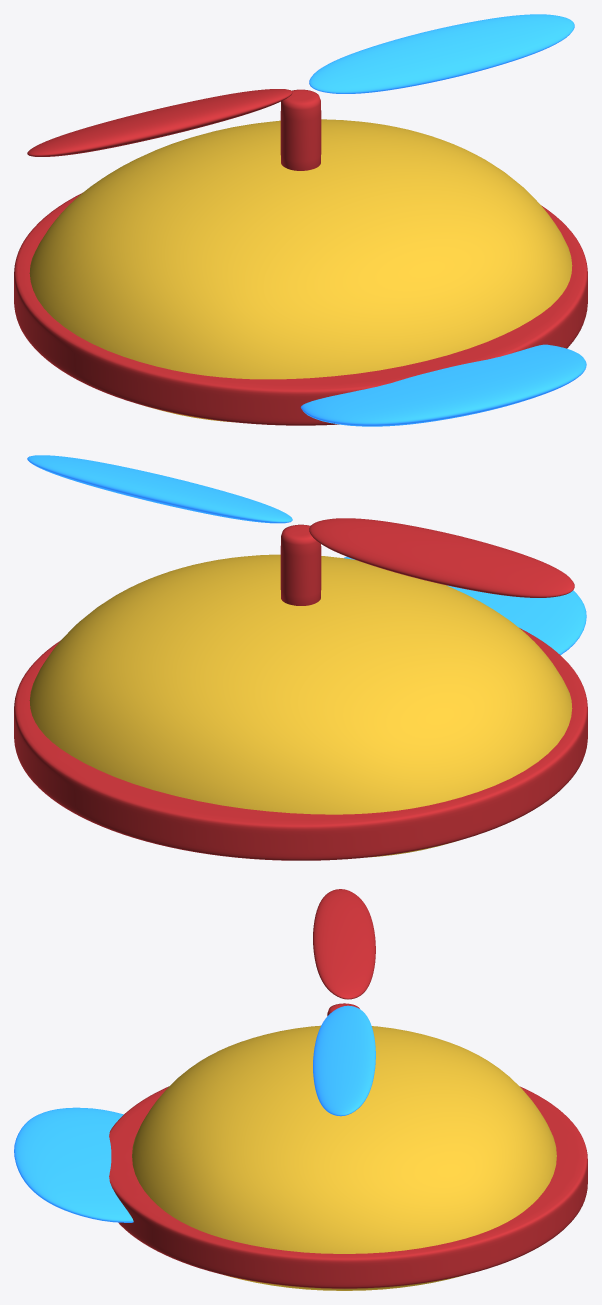
File: propeller_cap.glb
3 views of the same model, one above another, from view 1: azimuth 30°, elevation 25°; view 2: azimuth 150°, elevation 25°; view 3: azimuth 270°, elevation 25° (orthographic). The views are drawn at different scales.
Parts seen in each view (by area): view 1: ACC_propeller_cap_dome, ACC_propeller_cap_band, ACC_propeller_cap_brim, ACC_propeller_cap_blade1, ACC_propeller_cap_blade-1, ACC_propeller_cap_stem; view 2: ACC_propeller_cap_dome, ACC_propeller_cap_band, ACC_propeller_cap_blade-1, ACC_propeller_cap_blade1, ACC_propeller_cap_brim, ACC_propeller_cap_stem; view 3: ACC_propeller_cap_dome, ACC_propeller_cap_band, ACC_propeller_cap_brim, ACC_propeller_cap_blade-1, ACC_propeller_cap_blade1.
Boxes of the visible parts, x1=… form: ACC_propeller_cap_dome: x1=29, y1=119, x2=572, y2=422; ACC_propeller_cap_band: x1=14, y1=193, x2=587, y2=425; ACC_propeller_cap_brim: x1=301, y1=344, x2=586, y2=426; ACC_propeller_cap_blade1: x1=309, y1=14, x2=574, y2=93; ACC_propeller_cap_blade-1: x1=27, y1=89, x2=292, y2=156; ACC_propeller_cap_stem: x1=280, y1=89, x2=321, y2=170; ACC_propeller_cap_dome: x1=29, y1=554, x2=572, y2=857; ACC_propeller_cap_band: x1=14, y1=628, x2=587, y2=860; ACC_propeller_cap_blade-1: x1=309, y1=518, x2=574, y2=597; ACC_propeller_cap_blade1: x1=27, y1=455, x2=292, y2=523; ACC_propeller_cap_brim: x1=343, y1=556, x2=586, y2=654; ACC_propeller_cap_stem: x1=280, y1=524, x2=321, y2=605; ACC_propeller_cap_dome: x1=132, y1=1025, x2=556, y2=1290; ACC_propeller_cap_band: x1=109, y1=1086, x2=587, y2=1288; ACC_propeller_cap_brim: x1=14, y1=1107, x2=133, y2=1222; ACC_propeller_cap_blade-1: x1=313, y1=889, x2=375, y2=999; ACC_propeller_cap_blade1: x1=313, y1=1005, x2=375, y2=1116.
Bounding box in the file's own units: 0.7731 × 0.3622 × 0.8313.
